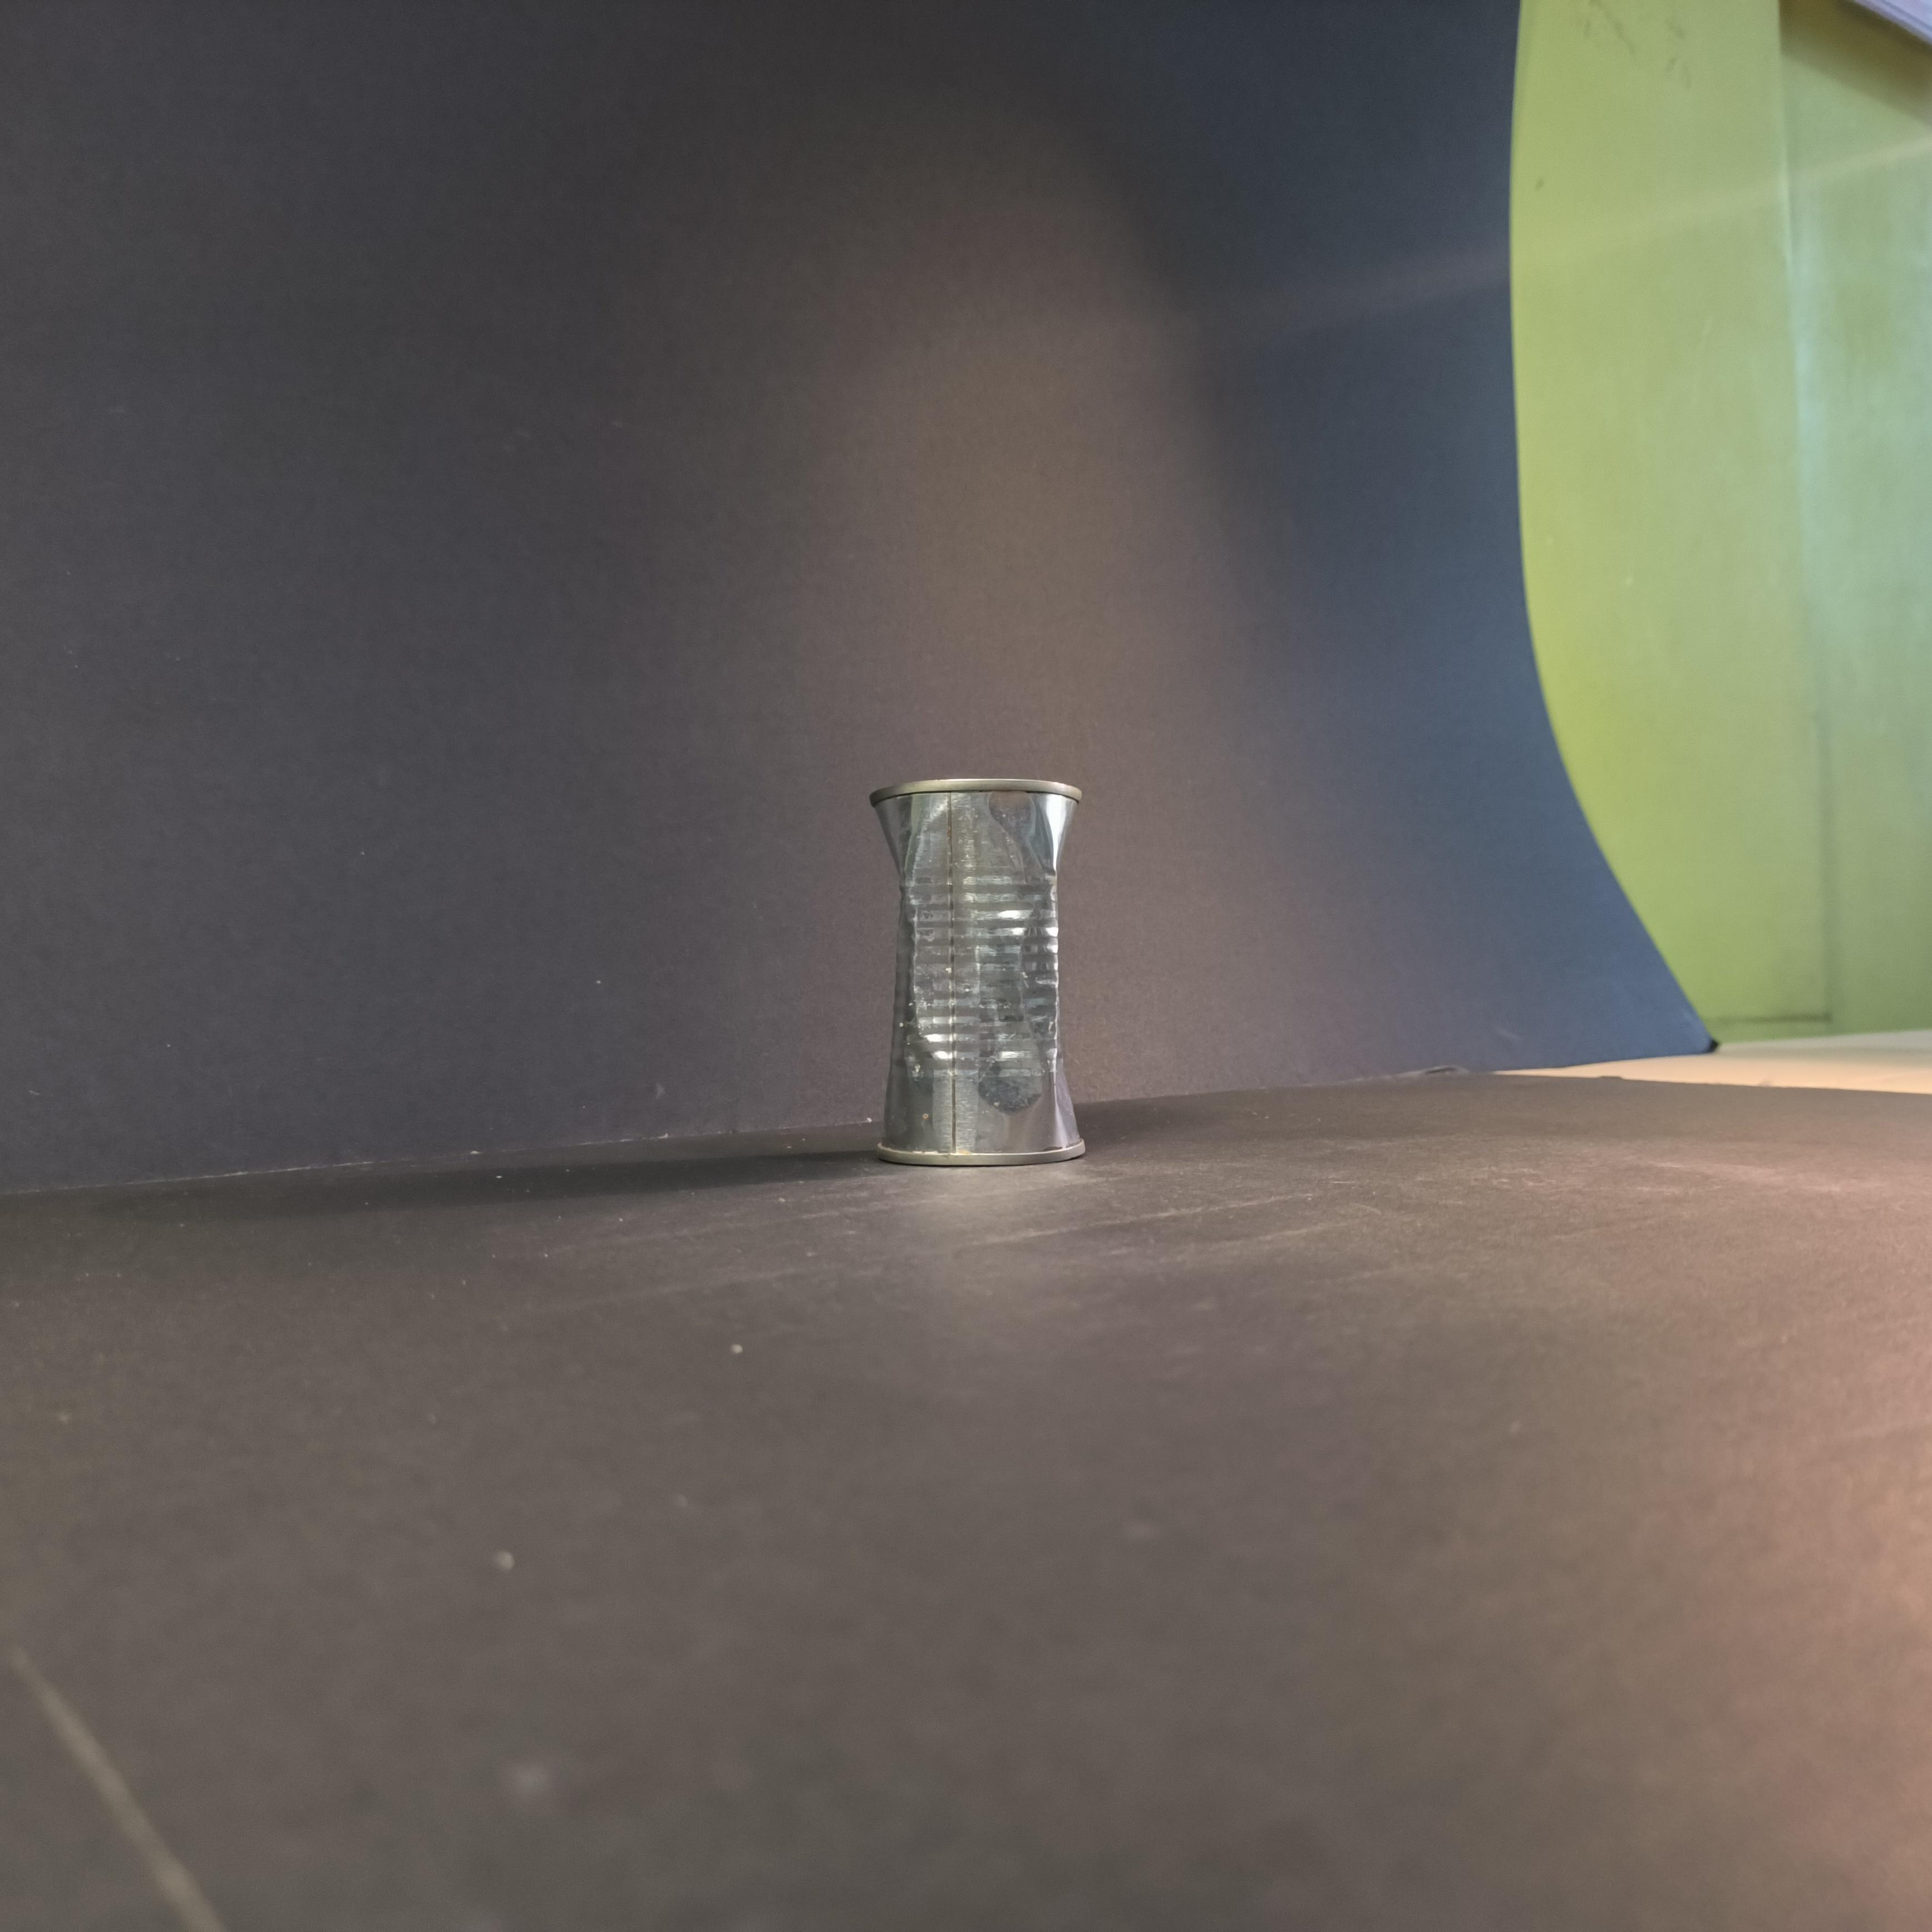Dented: (860, 743, 1118, 1166)
